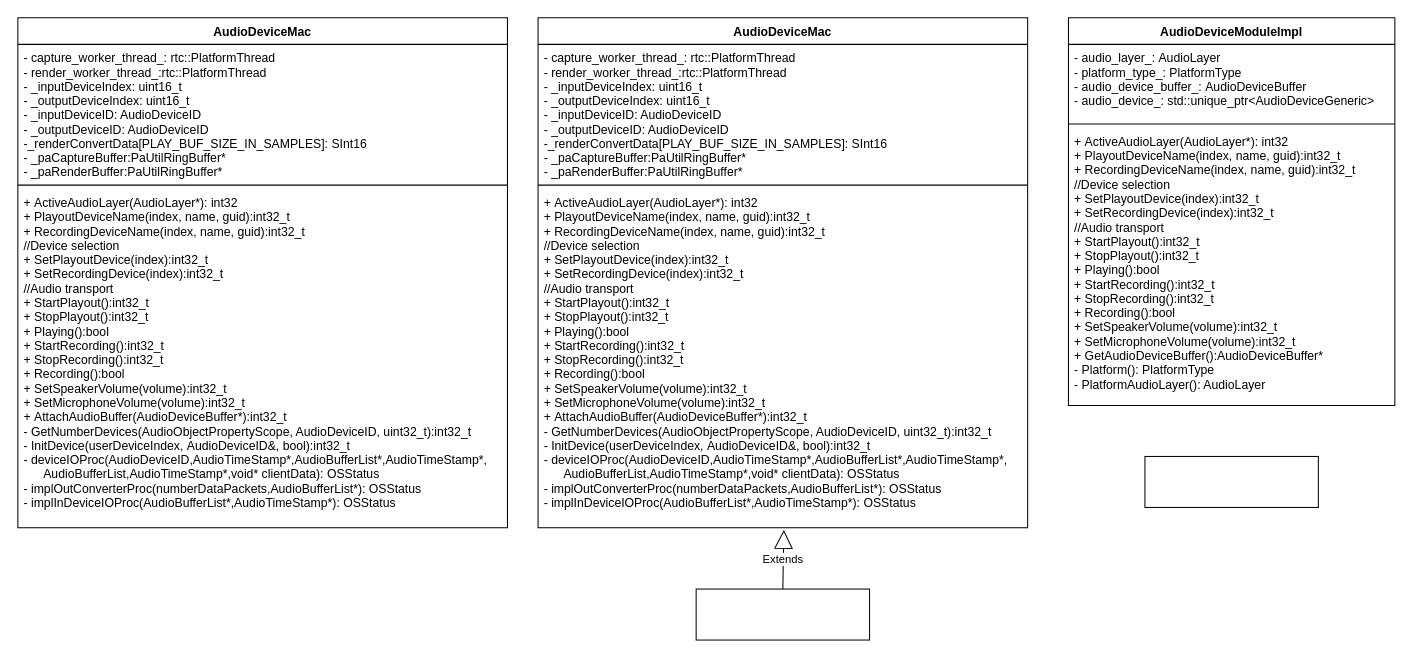
This 1413x658 diagram has some shape labels left out. The shapes that lost their labels are listed below. From the top down, each one's centre as x and y in pixels, then its label:
At [1231,481]: "«interface» AudioDeviceModule".
At [782,614]: "«interface» AudioDeviceGeneric".
